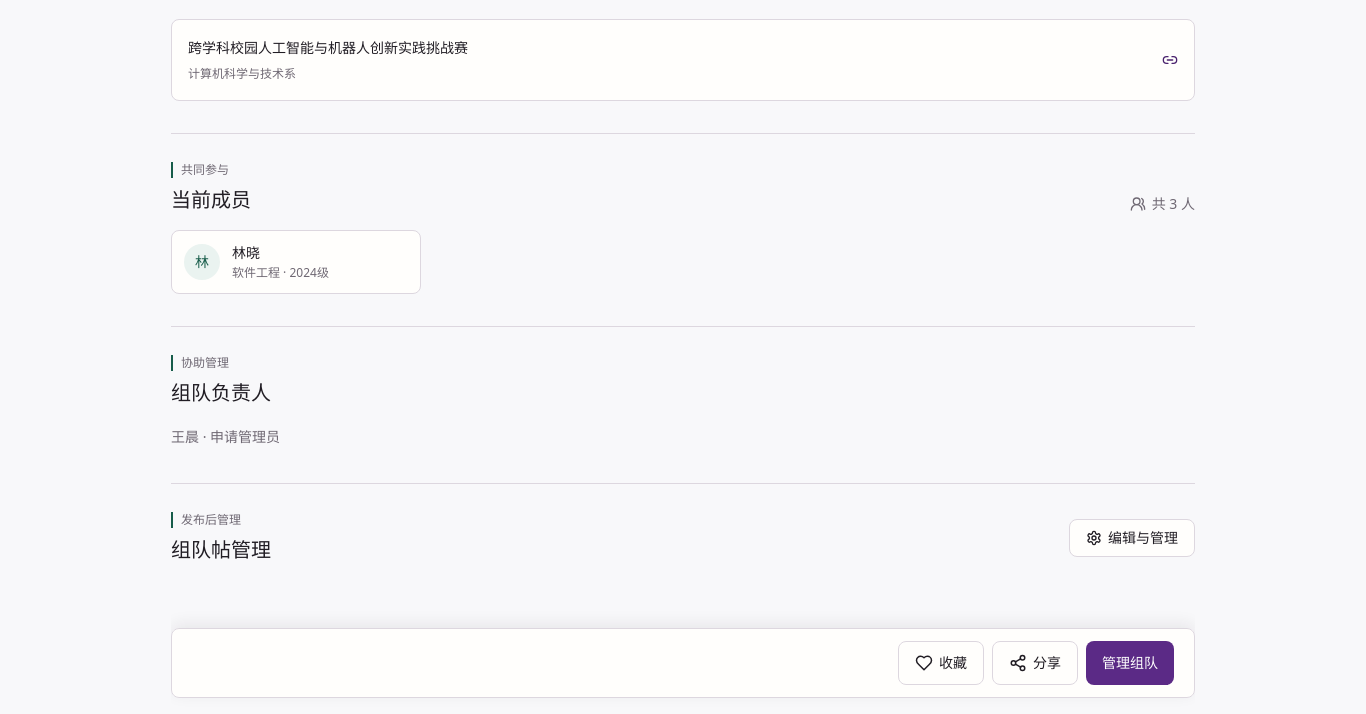
Test: PostDetail group experience › lets the owner request privacy-safe teammate recommendations from management
The width and height of the screenshot is (1366, 714).
(page scrolled)
Step 1. Click the button "编辑与管理" → (1132, 538), box 1069,518 -> 1195,556
(page scrolled)
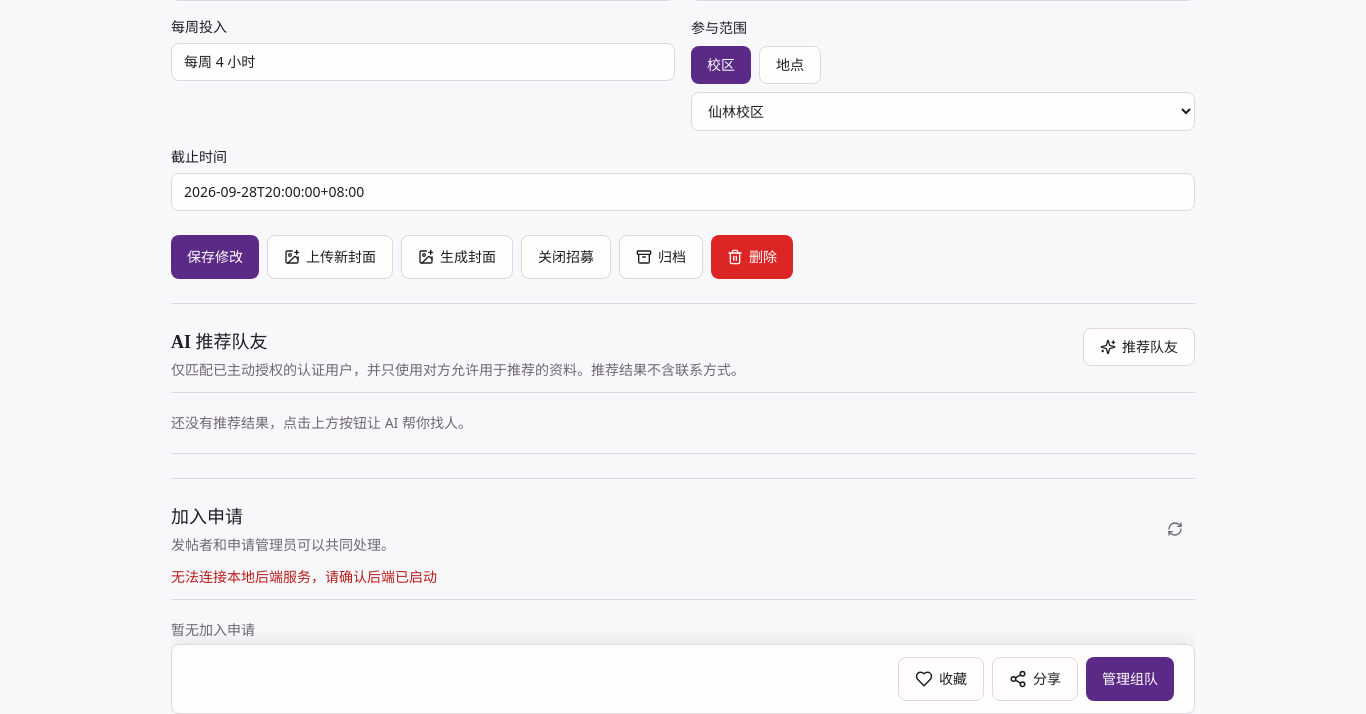
Step 2. Click the button "推荐队友" → (1139, 346), box 1083,328 -> 1195,366
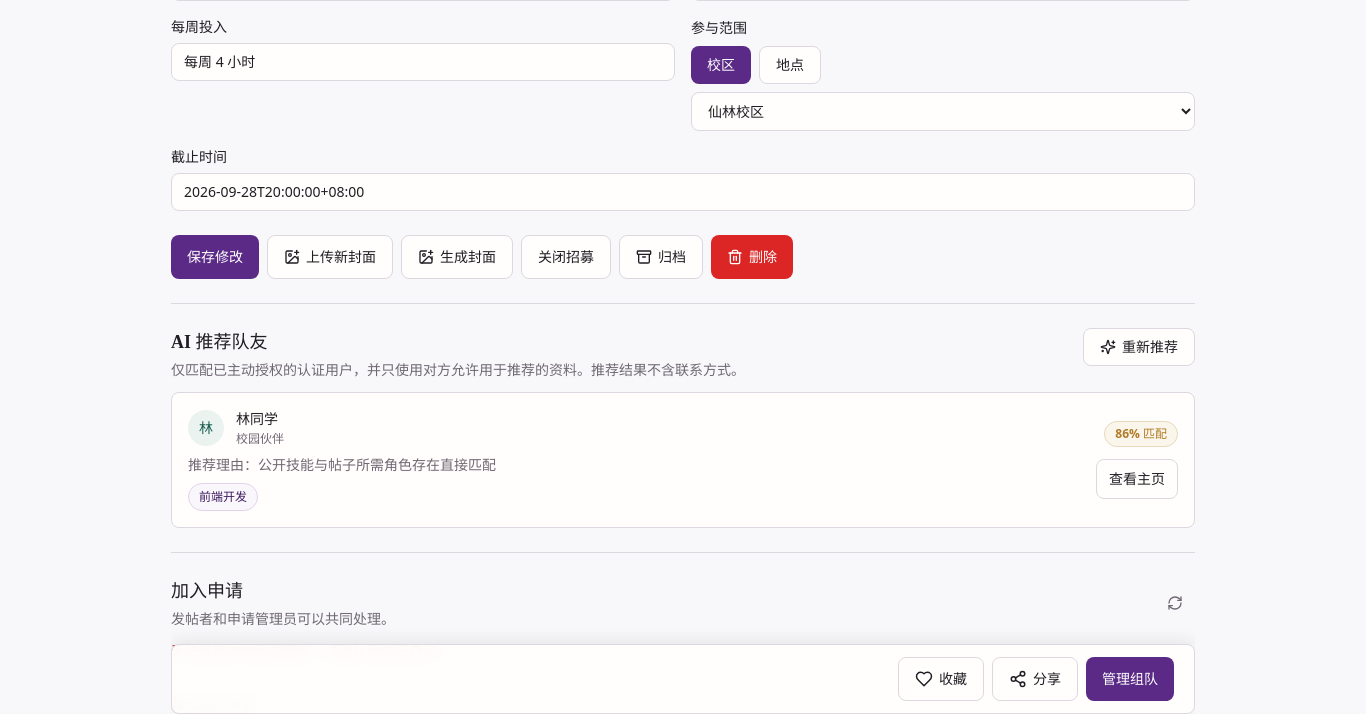
Expected: the text "林同学" is shown, 236,408 -> 284,428
Expected: the text "86% 匹配" is shown, 1104,420 -> 1178,446
Expected: the text "推荐理由：公开技能与帖子所需角色存在直接匹配" is shown, 188,454 -> 496,474
